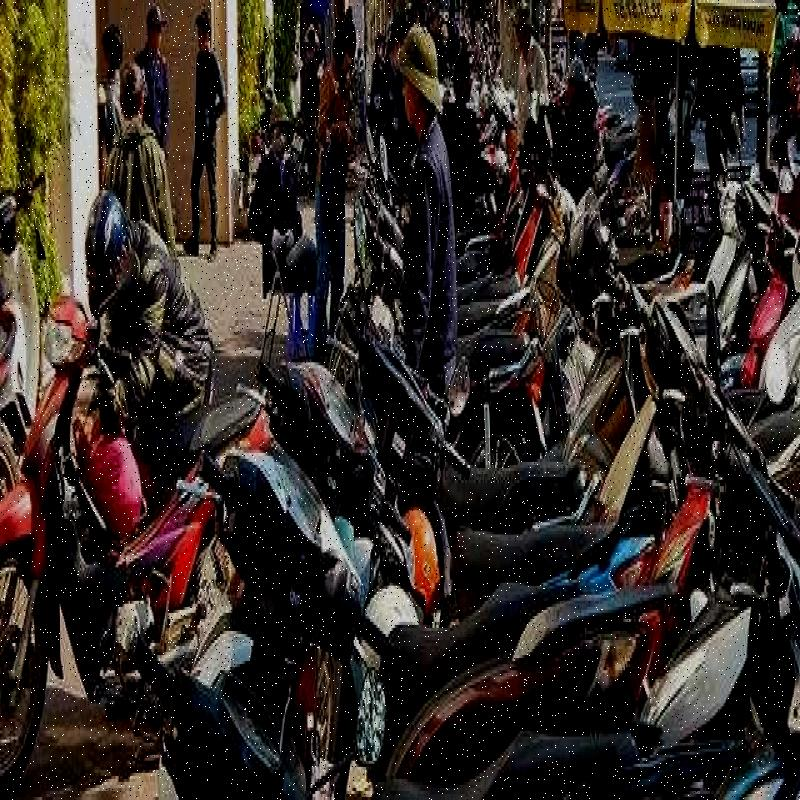bike: (0, 282, 277, 727), (191, 424, 669, 621), (163, 642, 748, 800), (266, 362, 718, 558), (598, 288, 719, 517), (520, 165, 643, 335), (697, 405, 775, 624)
